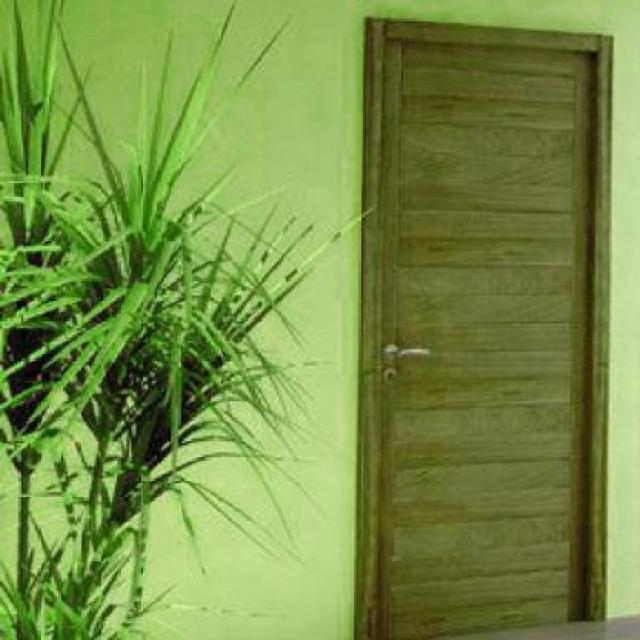door_handle: (381, 345, 441, 364)
